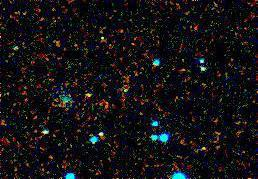star: (73, 88, 103, 118)
